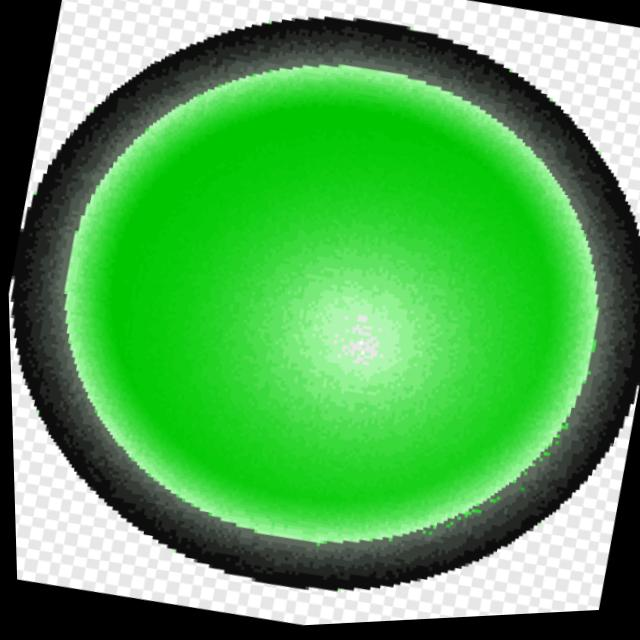green_light: (1, 24, 637, 640)
